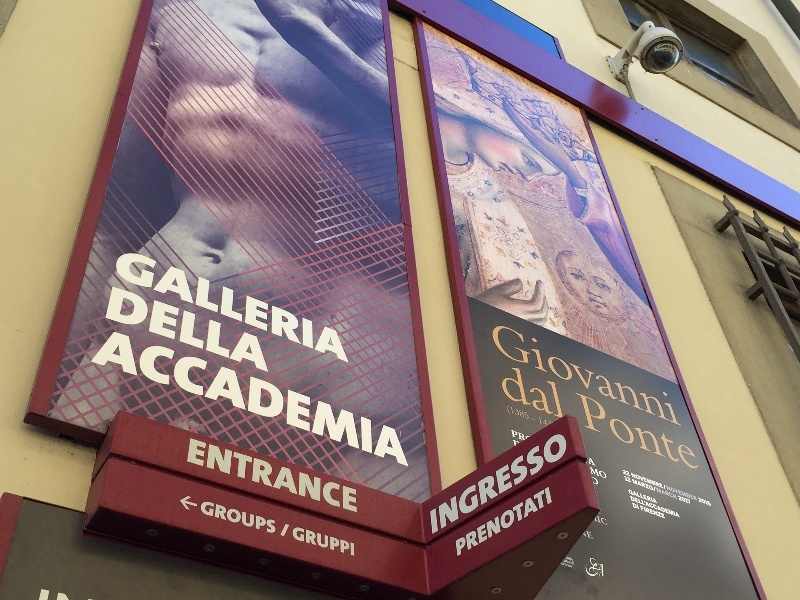text: (129, 330, 144, 468), (145, 330, 160, 468), (161, 330, 176, 468), (177, 330, 192, 468), (193, 330, 208, 468), (209, 330, 224, 468), (225, 330, 240, 468), (241, 330, 256, 468), (257, 330, 272, 468), (273, 330, 288, 468), (289, 330, 304, 468), (305, 330, 320, 468), (321, 330, 336, 468), (337, 330, 352, 468), (353, 330, 368, 468), (369, 330, 384, 468), (385, 330, 400, 468), (115, 330, 128, 468), (129, 247, 144, 365), (145, 247, 160, 365), (161, 247, 176, 365), (177, 247, 192, 365), (193, 247, 208, 365), (209, 247, 224, 365), (225, 247, 240, 365), (241, 247, 256, 365), (257, 247, 272, 365), (273, 247, 288, 365), (289, 247, 304, 365), (305, 247, 320, 365), (321, 247, 336, 365), (433, 431, 448, 536), (449, 431, 464, 536), (465, 431, 480, 536), (481, 431, 496, 536), (497, 431, 512, 536), (513, 431, 528, 536), (529, 431, 544, 536), (545, 431, 560, 536), (497, 322, 512, 426), (513, 322, 528, 426), (529, 322, 544, 426), (545, 322, 560, 426), (561, 322, 576, 426), (577, 322, 592, 426), (593, 322, 608, 426), (609, 322, 624, 426), (625, 322, 640, 426), (641, 322, 656, 426), (657, 322, 672, 426), (337, 247, 349, 365), (113, 286, 128, 372), (129, 286, 144, 372), (145, 286, 160, 372), (161, 286, 176, 372), (177, 286, 192, 372), (193, 286, 208, 372), (209, 286, 224, 372), (225, 286, 240, 372), (241, 286, 256, 372), (577, 393, 592, 472), (593, 393, 608, 472), (609, 393, 624, 472), (625, 393, 640, 472), (641, 393, 656, 472), (657, 393, 672, 472), (673, 393, 688, 472), (193, 438, 208, 514), (209, 438, 224, 514), (225, 438, 240, 514), (241, 438, 256, 514), (257, 438, 272, 514), (273, 438, 288, 514), (289, 438, 304, 514), (305, 438, 320, 514), (321, 438, 336, 514), (337, 438, 352, 514), (401, 330, 409, 468), (465, 487, 480, 558), (481, 487, 496, 558), (497, 487, 512, 558), (513, 487, 528, 558), (529, 487, 544, 558), (257, 286, 268, 372), (120, 247, 128, 365), (673, 322, 682, 426), (689, 393, 700, 472), (561, 431, 569, 536), (455, 487, 464, 558), (545, 487, 553, 558), (209, 500, 224, 536), (225, 500, 240, 536), (241, 500, 256, 536), (257, 500, 272, 536), (305, 526, 320, 556), (321, 526, 336, 556), (337, 526, 352, 556), (492, 322, 496, 426), (292, 526, 304, 556), (641, 496, 656, 518), (657, 496, 672, 518), (513, 405, 528, 426), (529, 405, 544, 426), (353, 438, 357, 514), (593, 557, 604, 580), (201, 500, 208, 536), (641, 473, 656, 489), (641, 489, 656, 504), (673, 486, 688, 501), (430, 431, 432, 536), (631, 496, 640, 518), (641, 506, 656, 519), (593, 467, 608, 479), (657, 488, 672, 500), (629, 489, 640, 504), (641, 479, 654, 491), (673, 496, 680, 518), (631, 473, 640, 489), (513, 430, 526, 441), (595, 515, 608, 526), (586, 557, 592, 580), (689, 486, 698, 501), (595, 476, 608, 486), (567, 556, 576, 569), (657, 506, 666, 519), (273, 500, 276, 536), (625, 476, 640, 483), (507, 405, 512, 426), (657, 473, 663, 489), (632, 479, 640, 491), (281, 524, 288, 537), (513, 440, 528, 446), (666, 486, 672, 501), (678, 496, 688, 504), (191, 438, 192, 514), (705, 497, 712, 507), (545, 405, 548, 426), (673, 488, 678, 500), (698, 497, 704, 507), (632, 503, 640, 510), (625, 469, 631, 477), (586, 531, 592, 539), (353, 526, 354, 556), (665, 485, 672, 489), (593, 458, 596, 467), (590, 467, 592, 479), (590, 458, 592, 467), (657, 489, 658, 504), (511, 430, 512, 441), (623, 469, 624, 477), (526, 435, 528, 439), (529, 435, 531, 439), (689, 496, 690, 504), (655, 487, 656, 492)
